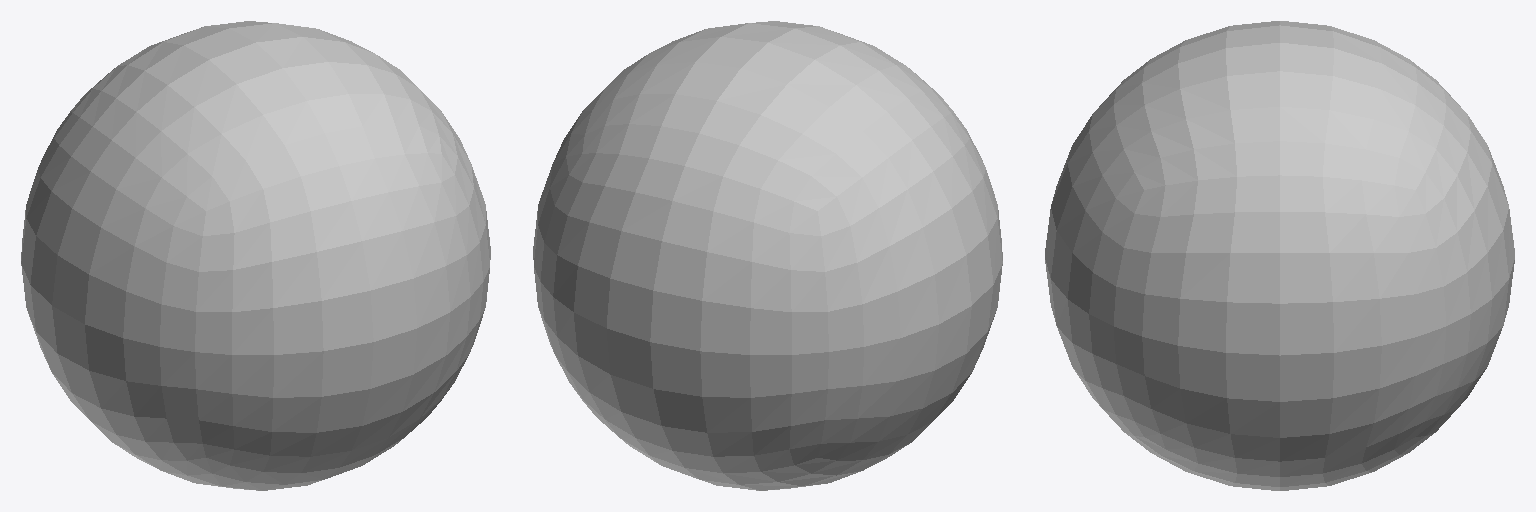
The model's file is MaterialSphere_UV1.OBJ.
3 renders of one model, left to right at view 1: azimuth 30°, elevation 25°; view 2: azimuth 150°, elevation 25°; view 3: azimuth 270°, elevation 25°, orthographic.
Parts seen in each view (by area): view 1: UnrealEdObject; view 2: UnrealEdObject; view 3: UnrealEdObject.
Part boxes in pixels (bbox=[...]): UnrealEdObject: bbox=[21, 21, 490, 490]; UnrealEdObject: bbox=[533, 21, 1002, 490]; UnrealEdObject: bbox=[1045, 21, 1514, 490].
Bounding box in the file's own units: 100 × 100 × 100.